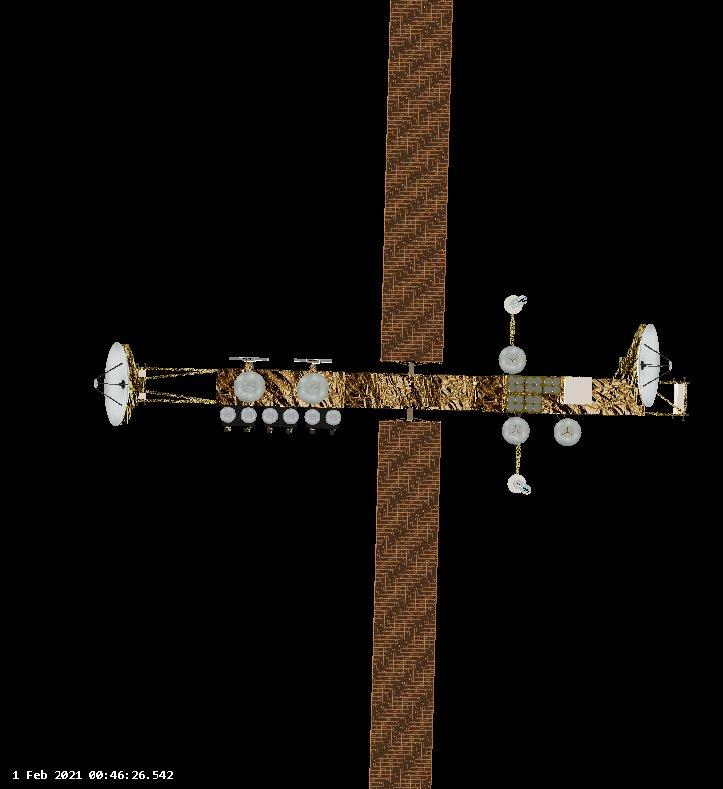antenna: (88, 337, 142, 434), (625, 320, 679, 408), (293, 372, 332, 404), (229, 369, 266, 402), (549, 414, 582, 449), (497, 343, 529, 376), (499, 414, 532, 445), (499, 289, 531, 316), (504, 468, 534, 496), (323, 405, 344, 428), (215, 405, 239, 425), (280, 405, 300, 429), (301, 407, 324, 427), (239, 403, 257, 425), (262, 403, 279, 424)
body: (209, 364, 652, 422)
solar: (374, 0, 460, 367), (366, 417, 446, 789)
